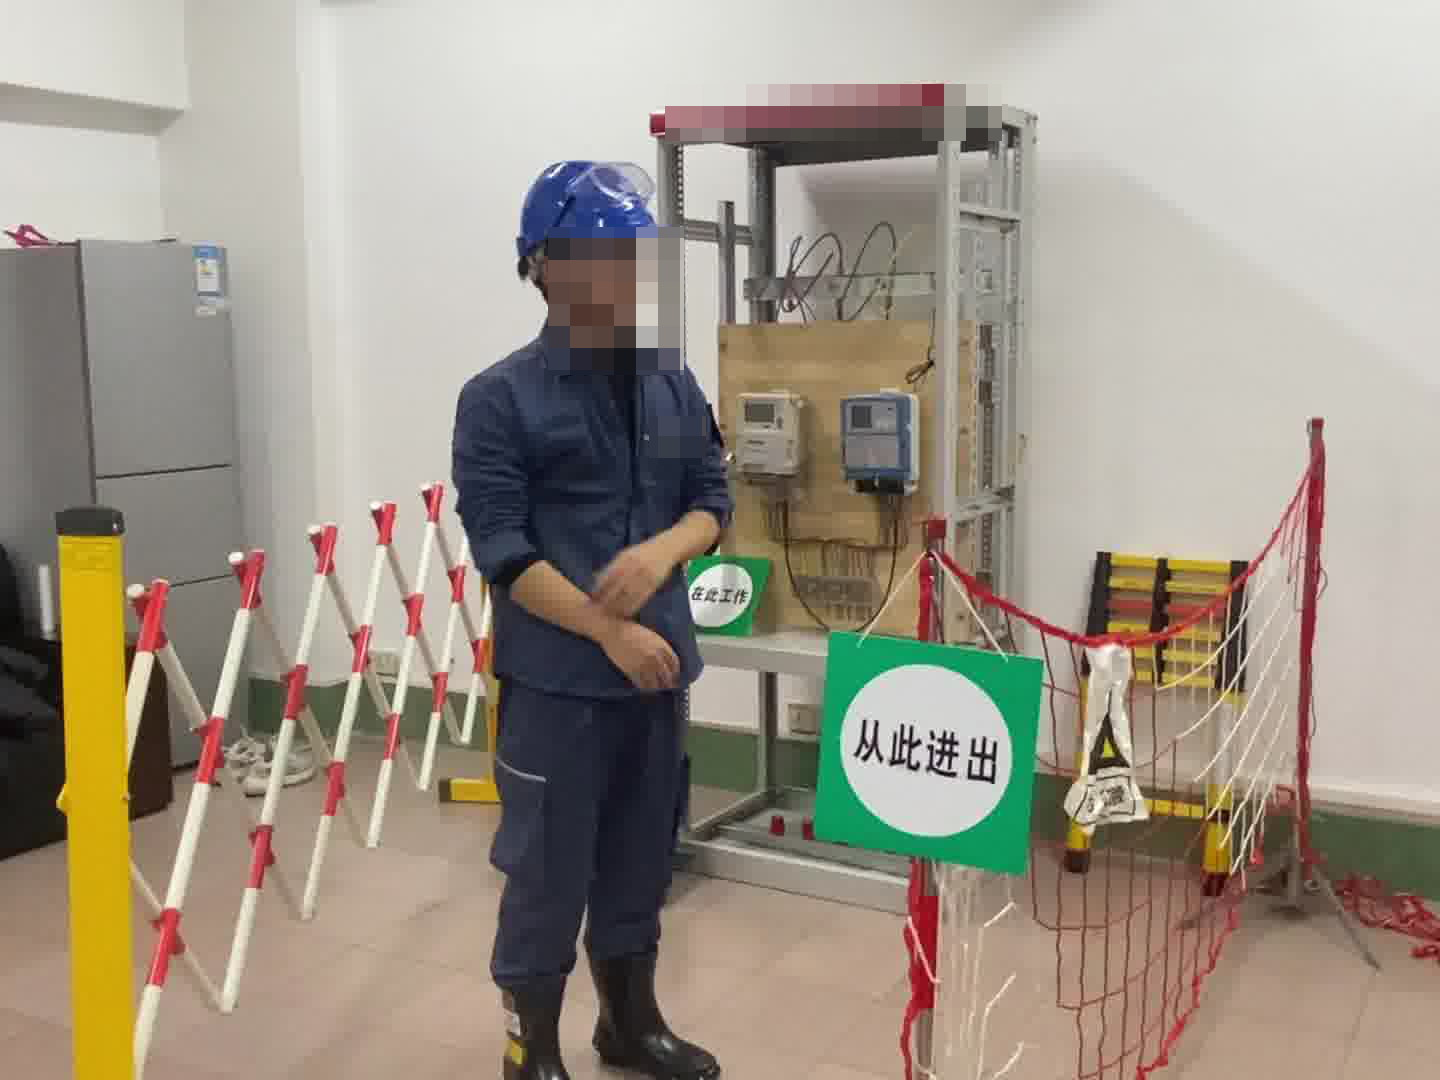downsuit: (484, 682, 690, 972)
halt: (837, 662, 1024, 843), (511, 157, 668, 339)
hand: (606, 611, 682, 695), (584, 540, 670, 612)
inear: (521, 242, 585, 324)
intosign: (807, 627, 1046, 880)
person: (448, 153, 741, 1080)
shoe: (500, 952, 719, 1080)
upsuit: (452, 330, 737, 692)
worksign: (679, 544, 775, 641)
wrongsuit: (582, 334, 654, 502)
wrongtop: (502, 549, 679, 689), (578, 505, 728, 619)
